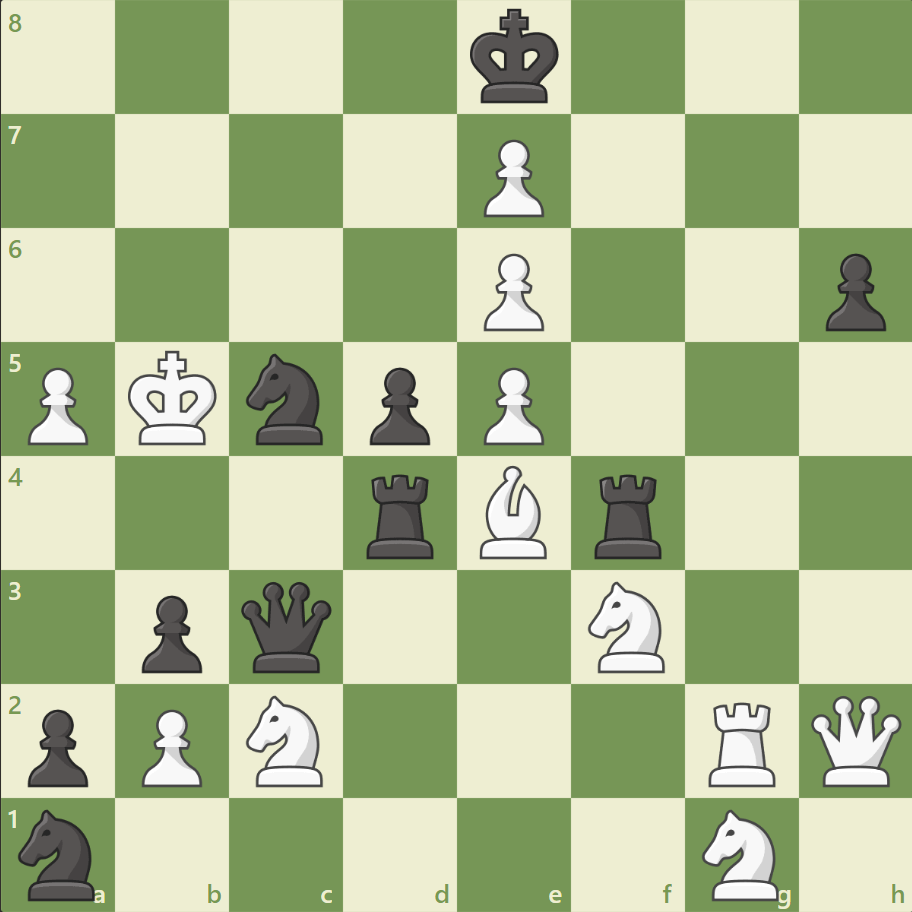B: (471, 460, 555, 563)
K: (124, 344, 224, 452)
N: (238, 688, 335, 791), (579, 575, 676, 677), (692, 802, 789, 904)
P: (474, 132, 549, 223), (474, 246, 549, 337), (20, 359, 95, 450), (474, 359, 549, 450), (133, 700, 208, 791)
Q: (805, 690, 904, 789)
R: (700, 693, 783, 790)
k: (465, 4, 565, 112)
n: (238, 348, 335, 450), (11, 802, 108, 904)
p: (133, 586, 208, 677), (20, 700, 95, 791), (815, 246, 889, 337), (361, 359, 435, 450)
q: (237, 576, 336, 676)
r: (587, 466, 670, 563), (360, 466, 442, 563)
